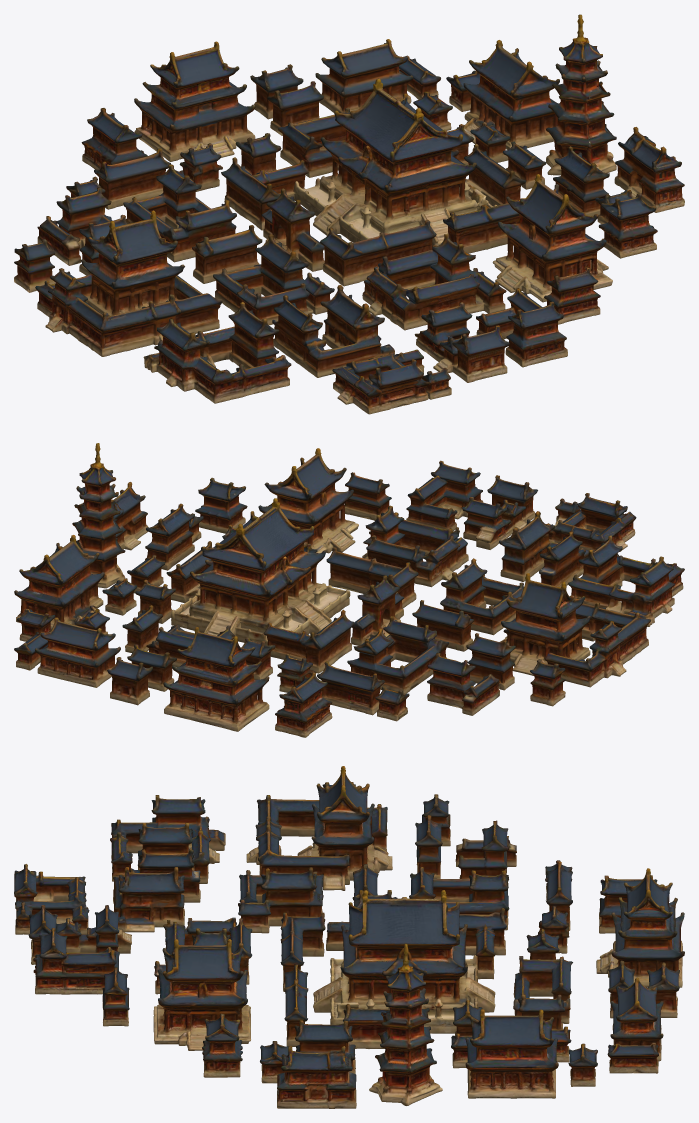
The model's file is Enlightenment City (East Asian).fbx.
The picture shows the model from 3 angles, top to bottom: view 1: azimuth 30°, elevation 25°; view 2: azimuth 150°, elevation 25°; view 3: azimuth 270°, elevation 25°; orthographic projection. The views are drawn at different scales.
Parts seen in each view (by area): view 1: tripo_node_1bdd58ea; view 2: tripo_node_1bdd58ea; view 3: tripo_node_1bdd58ea.
Boxes of the visible parts, left/top/right/bottom form: tripo_node_1bdd58ea: left=14, top=14, right=684, bottom=414; tripo_node_1bdd58ea: left=14, top=443, right=684, bottom=737; tripo_node_1bdd58ea: left=14, top=766, right=684, bottom=1108.
Bounding box in the file's own units: 1 × 0.2402 × 0.9927.
